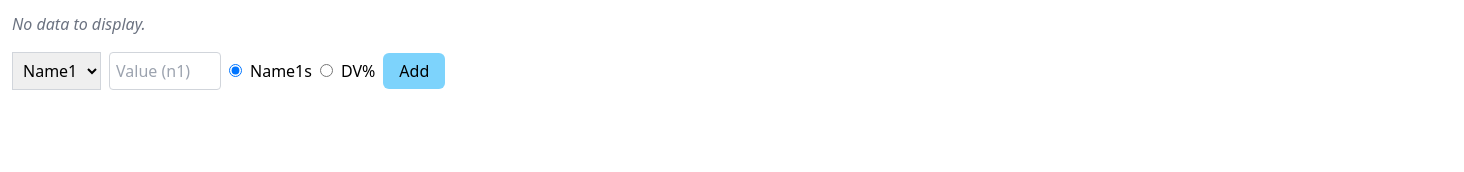
NutrientValueList › remove
Type "5" into the number field.
click(165, 71); type("5")  # box [109,52,221,90]
Click the button.
click(414, 71)  # box [383,53,445,89]
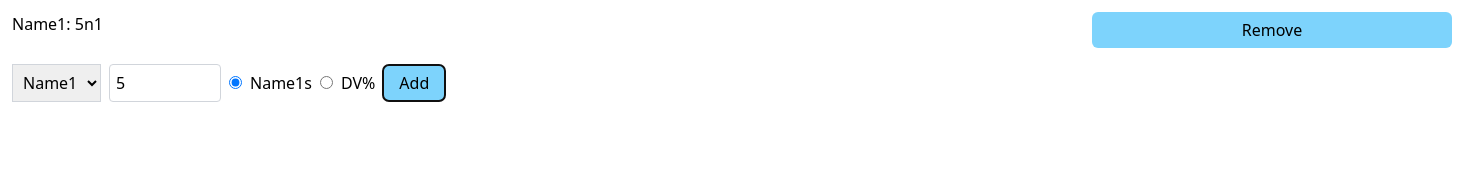
Select "Name2" in the dropdown at (56, 83), box [12,64,101,102]
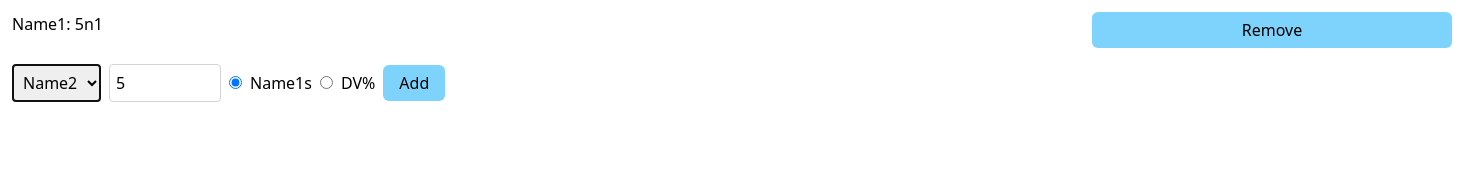
Replace the text in the number field with "10" at (165, 83), box [109,64,221,102]
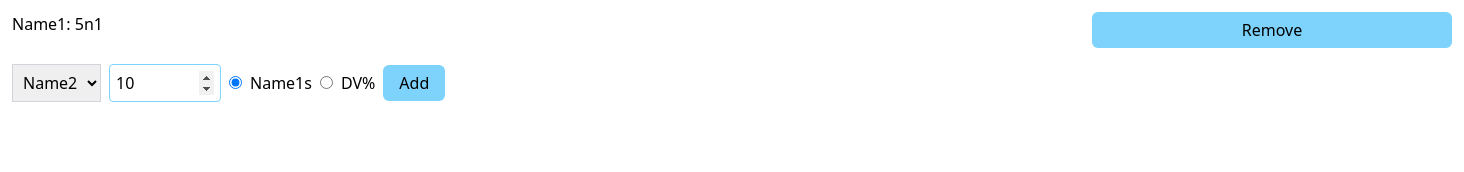
Click the button "Add".
click(414, 83)  # box [383,65,445,101]
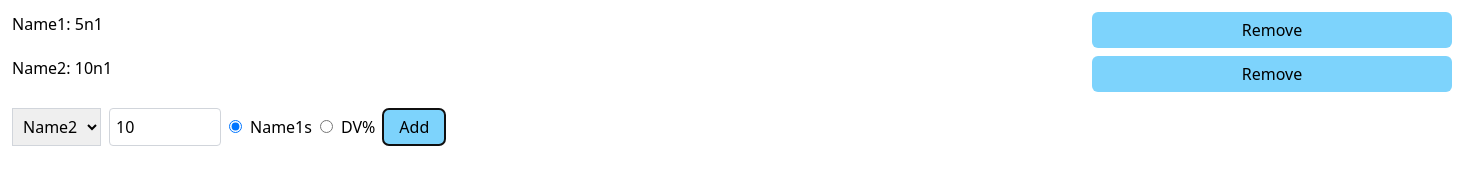
Expected: the number of buttons is 3
Click the 1st button "Remove".
click(1272, 30)  # box [1092,12,1452,48]
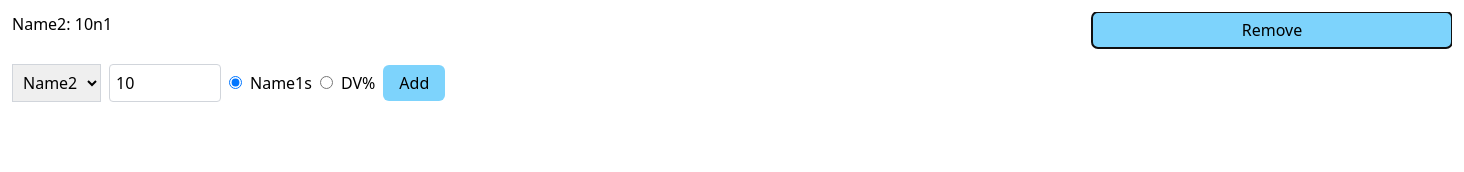
Expected: the number of buttons is 2
Click the button "Remove".
click(1272, 30)  # box [1092,12,1452,48]
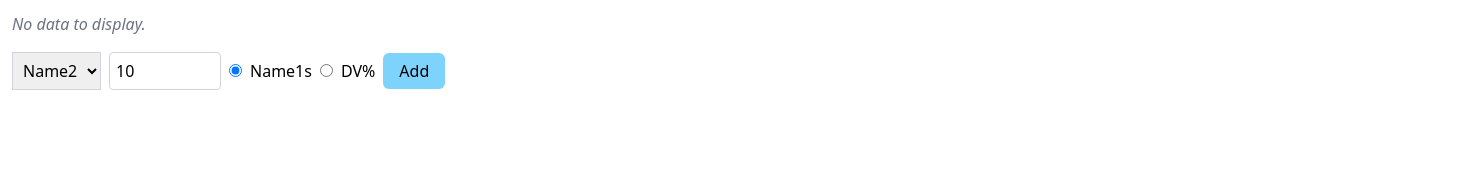
Expected: the number of buttons is 1, [383,53,445,89]
